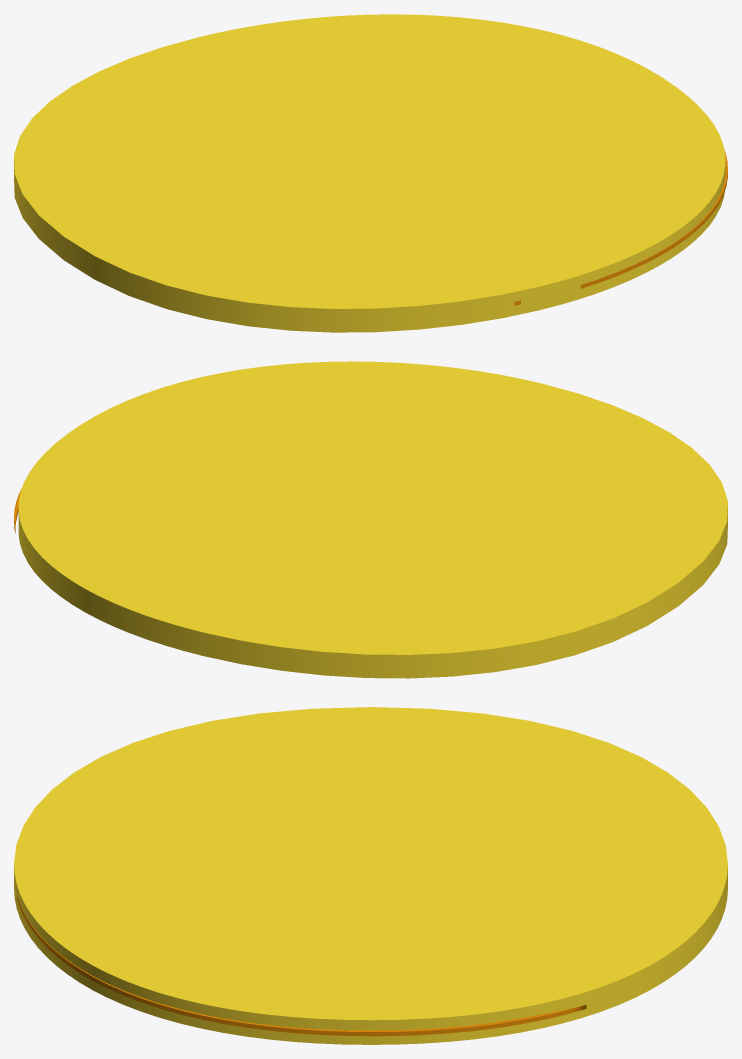
The model's file is emoji_u1f601.glb.
3 views of the same model, one above another, from view 1: azimuth 30°, elevation 25°; view 2: azimuth 150°, elevation 25°; view 3: azimuth 270°, elevation 25° (orthographic). The views are drawn at different scales.
Visible parts, largest first — view 1: emoji_u1f601; view 2: emoji_u1f601; view 3: emoji_u1f601.
Part boxes in pixels (x1,y1,x2,y2): emoji_u1f601: [14, 14, 727, 332]; emoji_u1f601: [14, 361, 727, 678]; emoji_u1f601: [14, 707, 727, 1044].
Bounding box in the file's own units: 0.0327 × 0.0012 × 0.0314.
